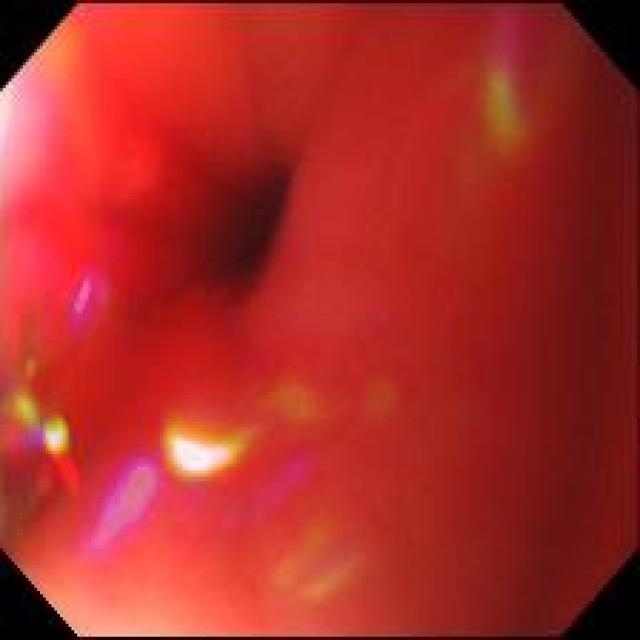blur: (2, 3, 637, 634)
color misalignment: (1, 55, 169, 582), (4, 351, 86, 518), (84, 452, 166, 560), (160, 417, 254, 482), (481, 65, 526, 168), (9, 366, 39, 427), (282, 392, 320, 421), (74, 270, 94, 319), (275, 468, 299, 507)
contrast: (212, 159, 298, 293)
specularity: (174, 438, 223, 471), (42, 416, 70, 458)
